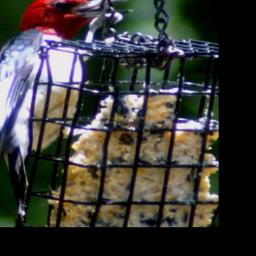Woodpecker: (0, 0, 137, 227)
